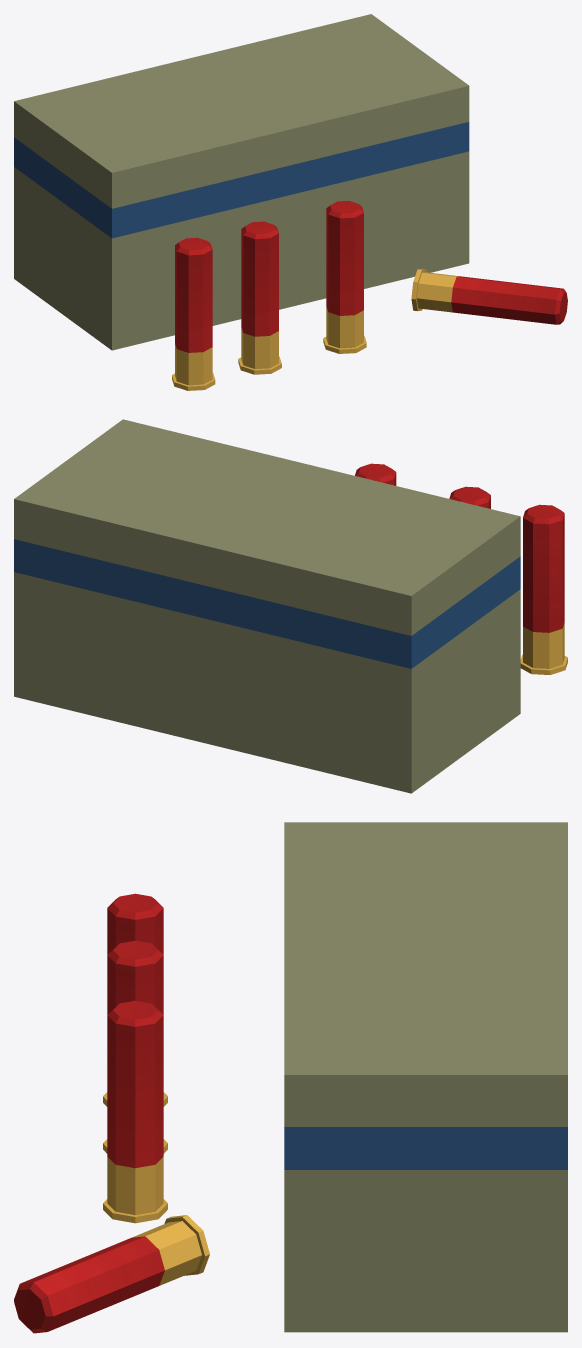
File: shotgun_ammo.gltf
The picture shows the model from 3 angles, top to bottom: view 1: azimuth 30°, elevation 25°; view 2: azimuth 150°, elevation 25°; view 3: azimuth 270°, elevation 25°; orthographic projection. The views are drawn at different scales.
Parts seen in each view (by area): view 1: Ammo_gun; view 2: Ammo_gun; view 3: Ammo_gun.
Part boxes in pixels (<box>): Ammo_gun: <box>14,14,567,390</box>; Ammo_gun: <box>14,419,567,793</box>; Ammo_gun: <box>14,822,567,1333</box>.
Size of the model in its own units: 0.2806 by 0.1284 by 0.2487.
1 material, 1 textured.
